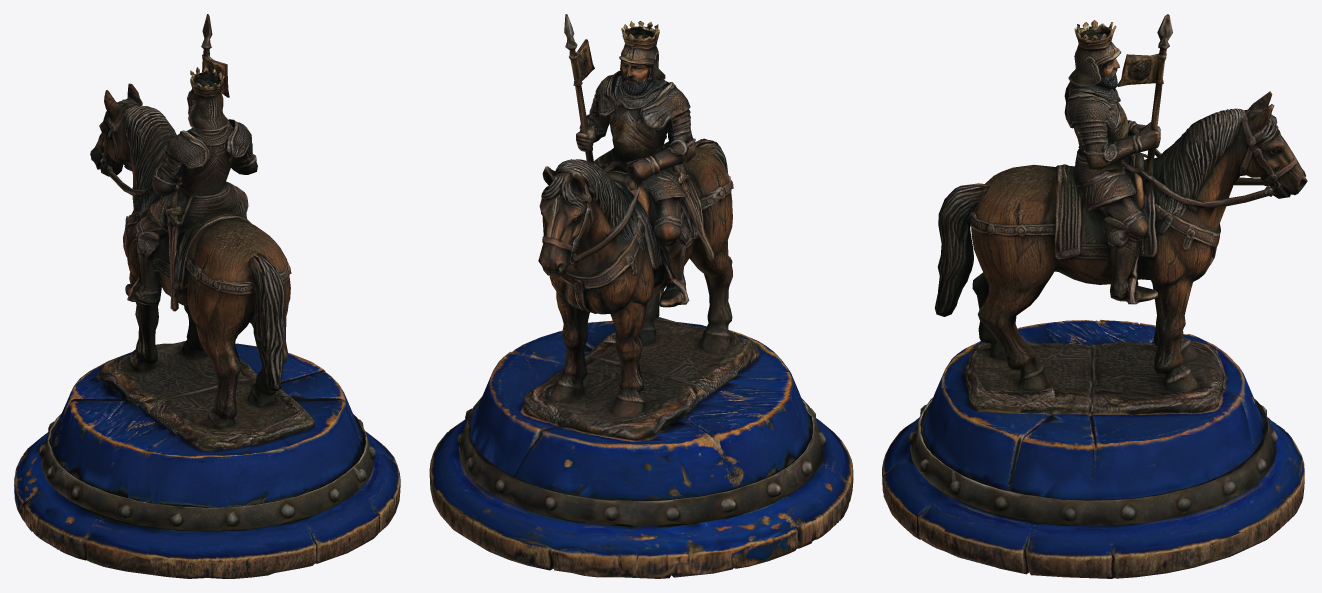
The model's file is piece_royal.glb.
3 renders of one model, left to right at view 1: azimuth 30°, elevation 25°; view 2: azimuth 150°, elevation 25°; view 3: azimuth 270°, elevation 25°, orthographic. The views are drawn at different scales.
Visible parts, largest first — view 1: piece_royal; view 2: piece_royal; view 3: piece_royal.
Boxes of the visible parts, box(x1,y1,x2,y2) form: piece_royal: box(14, 14, 400, 578); piece_royal: box(429, 14, 853, 578); piece_royal: box(882, 14, 1307, 578).
Size of the model in its own units: 1 by 1.3 by 1.01.
Materials: 1 (1 with a texture image).
